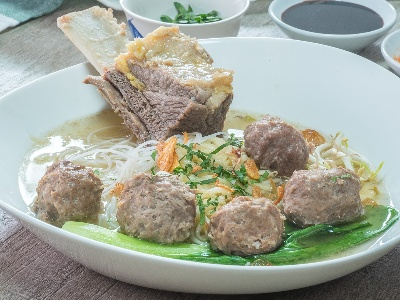bakso: (39, 97, 361, 253)
